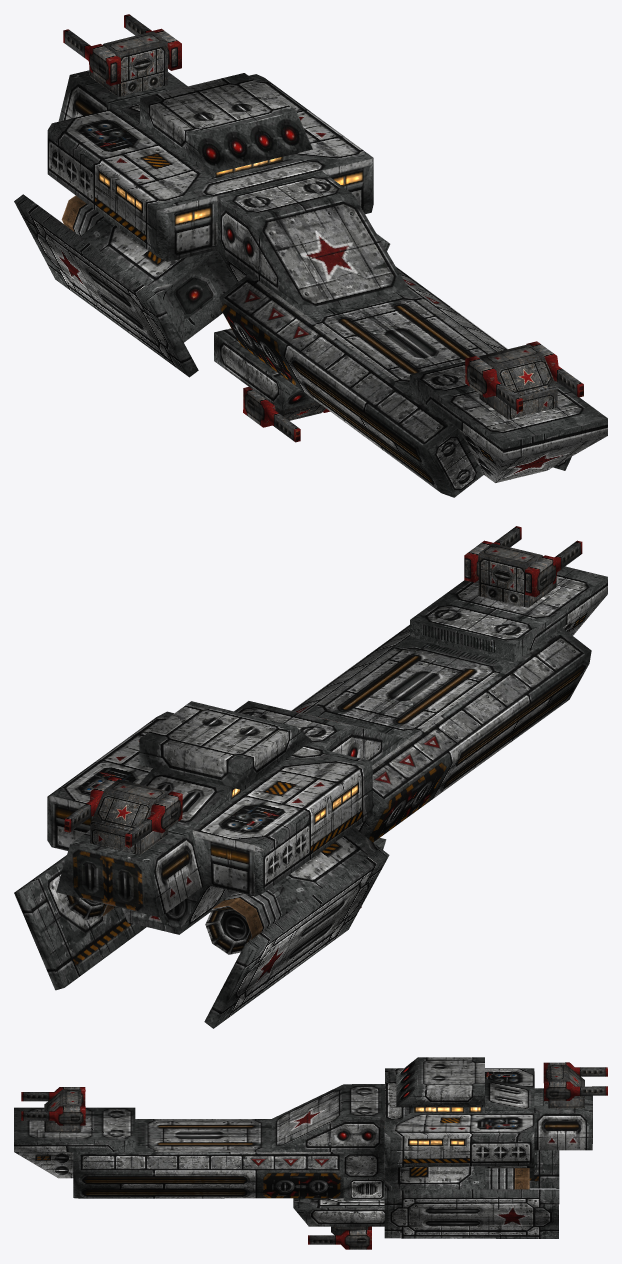
File: kurgen.glb
3 renders of one model, top to bottom at view 1: azimuth 30°, elevation 25°; view 2: azimuth 150°, elevation 25°; view 3: azimuth 270°, elevation 25°, orthographic. The views are drawn at different scales.
Parts seen in each view (by area): view 1: Kurgan Body, Turret 1 / Rus Sml tur base, Turret 2 / Rus Sml tur base, Turret 1 / Rus Sml Gun 2, Turret 2 / Rus Sml Gun 1, Turret 3 / Rus Sml Gun 1, Turret 2 / Rus Sml Gun 2, Turret 1 / Rus Sml Gun 1; view 2: Kurgan Body, Turret 2 / Rus Sml tur base, Turret 1 / Rus Sml tur base, Turret 1 / Rus Sml Gun 2, Turret 2 / Rus Sml Gun 1, Turret 1 / Rus Sml Gun 1, Turret 2 / Rus Sml Gun 2; view 3: Kurgan Body, Turret 1 / Rus Sml tur base, Turret 2 / Rus Sml tur base, Turret 1 / Rus Sml Gun 1, Turret 3 / Rus Sml Gun 2, Turret 2 / Rus Sml Gun 2, Turret 2 / Rus Sml Gun 1, Turret 1 / Rus Sml Gun 2.
Part boxes in pixels (x1,y1,x2,y2): Kurgan Body: (14, 70, 607, 497); Turret 1 / Rus Sml tur base: (479, 344, 557, 419); Turret 2 / Rus Sml tur base: (89, 31, 167, 96); Turret 1 / Rus Sml Gun 2: (465, 356, 522, 412); Turret 2 / Rus Sml Gun 1: (63, 29, 120, 85); Turret 3 / Rus Sml Gun 1: (243, 387, 300, 442); Turret 2 / Rus Sml Gun 2: (124, 14, 181, 70); Turret 1 / Rus Sml Gun 1: (526, 341, 583, 397); Kurgan Body: (14, 566, 607, 1028); Turret 2 / Rus Sml tur base: (90, 779, 168, 855); Turret 1 / Rus Sml tur base: (478, 543, 556, 607); Turret 1 / Rus Sml Gun 2: (525, 540, 582, 597); Turret 2 / Rus Sml Gun 1: (125, 791, 182, 847); Turret 1 / Rus Sml Gun 1: (464, 526, 521, 582); Turret 2 / Rus Sml Gun 2: (64, 776, 121, 832); Kurgan Body: (14, 1057, 592, 1238); Turret 1 / Rus Sml tur base: (44, 1089, 81, 1132); Turret 2 / Rus Sml tur base: (547, 1064, 584, 1108); Turret 1 / Rus Sml Gun 1: (21, 1106, 85, 1125); Turret 3 / Rus Sml Gun 2: (308, 1230, 371, 1249); Turret 2 / Rus Sml Gun 2: (543, 1081, 607, 1100); Turret 2 / Rus Sml Gun 1: (543, 1062, 607, 1081); Turret 1 / Rus Sml Gun 2: (21, 1087, 85, 1106).
Bounding box in the file's own units: 2181 × 2231 × 7179.
Materials: 3 (3 with a texture image).
